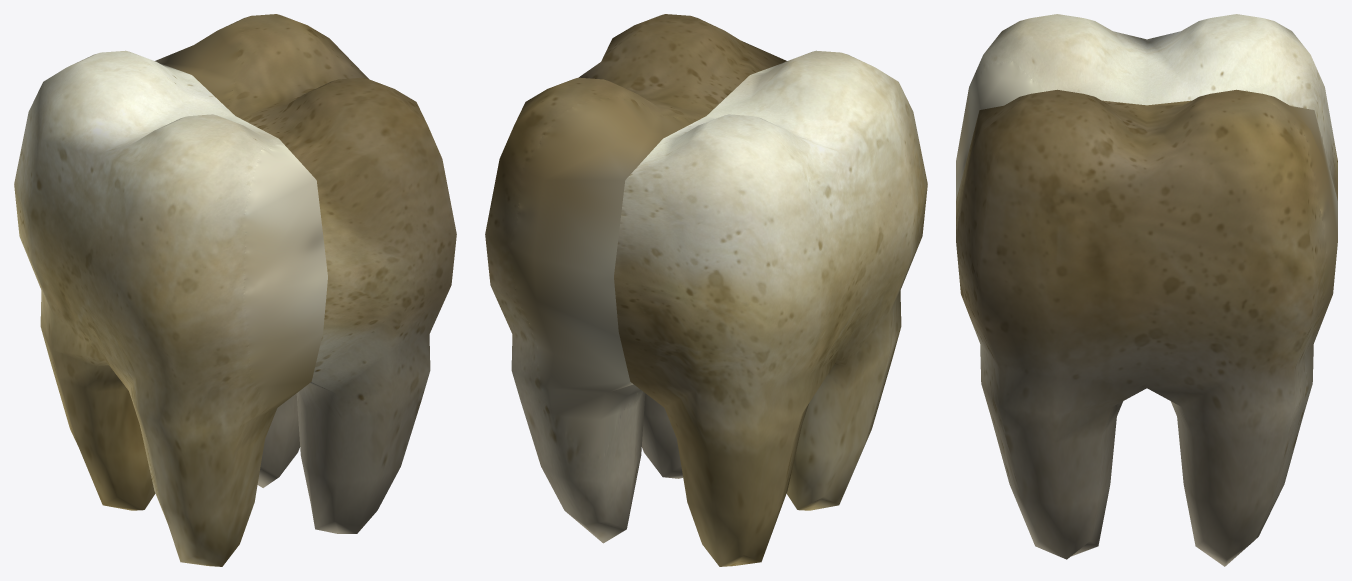
The model's file is Tooth.fbx.
3 views of the same model, side by side, from view 1: azimuth 30°, elevation 25°; view 2: azimuth 150°, elevation 25°; view 3: azimuth 270°, elevation 25° (orthographic). The views are drawn at different scales.
Parts seen in each view (by area): view 1: Tooth; view 2: Tooth; view 3: Tooth.
Part boxes in pixels (left/top/right/bottom): Tooth: left=14, top=14, right=456, bottom=566; Tooth: left=485, top=14, right=927, bottom=566; Tooth: left=956, top=14, right=1337, bottom=566.
Bounding box in the file's own units: 29.31 × 39.71 × 29.31.
